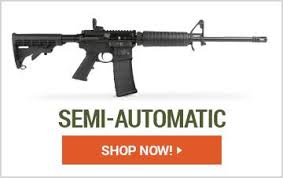rifle: (12, 18, 267, 97)
